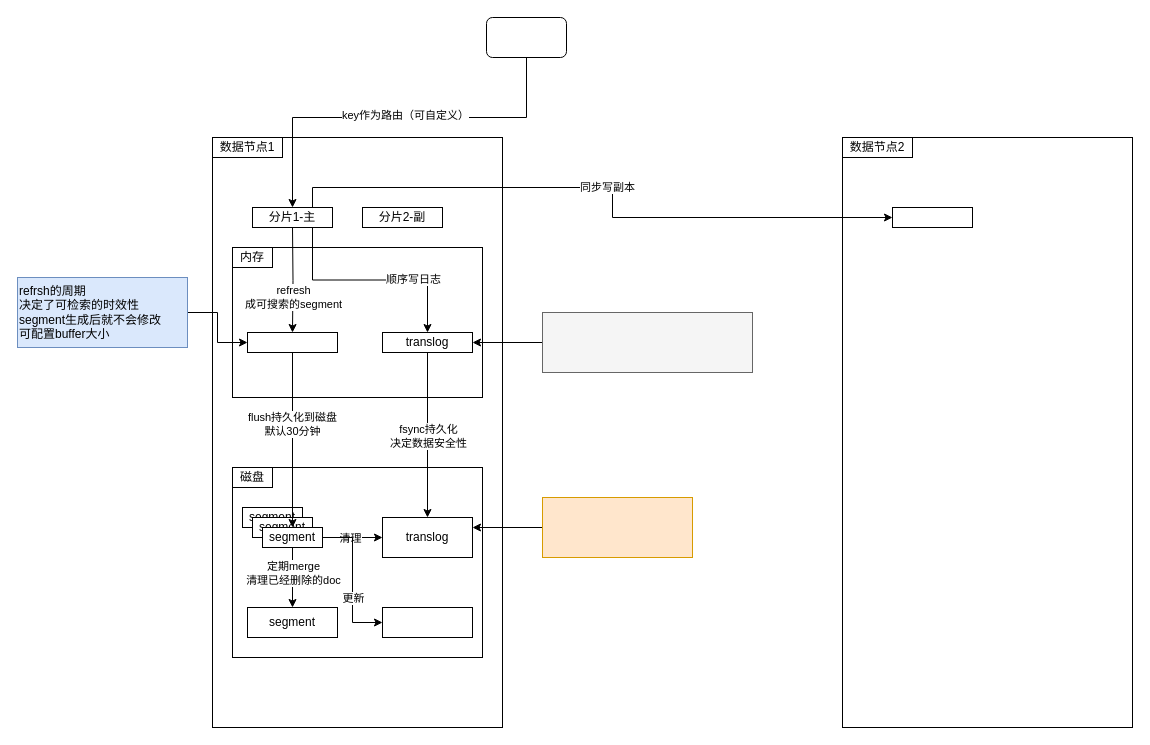
Image size: 1150x745. Some labels were removed from this diagram. Here are the shapes that lost their labels. From the top down, the centre of each, then its label:
At (x=526, y=37): "客户端".
At (x=932, y=217): "分片1-副".
At (x=292, y=342): "segment缓冲区".
At (x=647, y=342): "translog保证了数据的安全 崩溃恢复 WAL，mysql，redis存储的常规设计".
At (x=617, y=527): "index.translog.durability request：每次都fsync async：异步刷".
At (x=427, y=622): "checkpoint".
